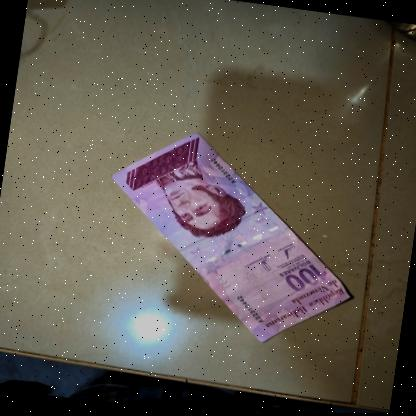one_hundred-front-vef: (90, 119, 371, 357)
